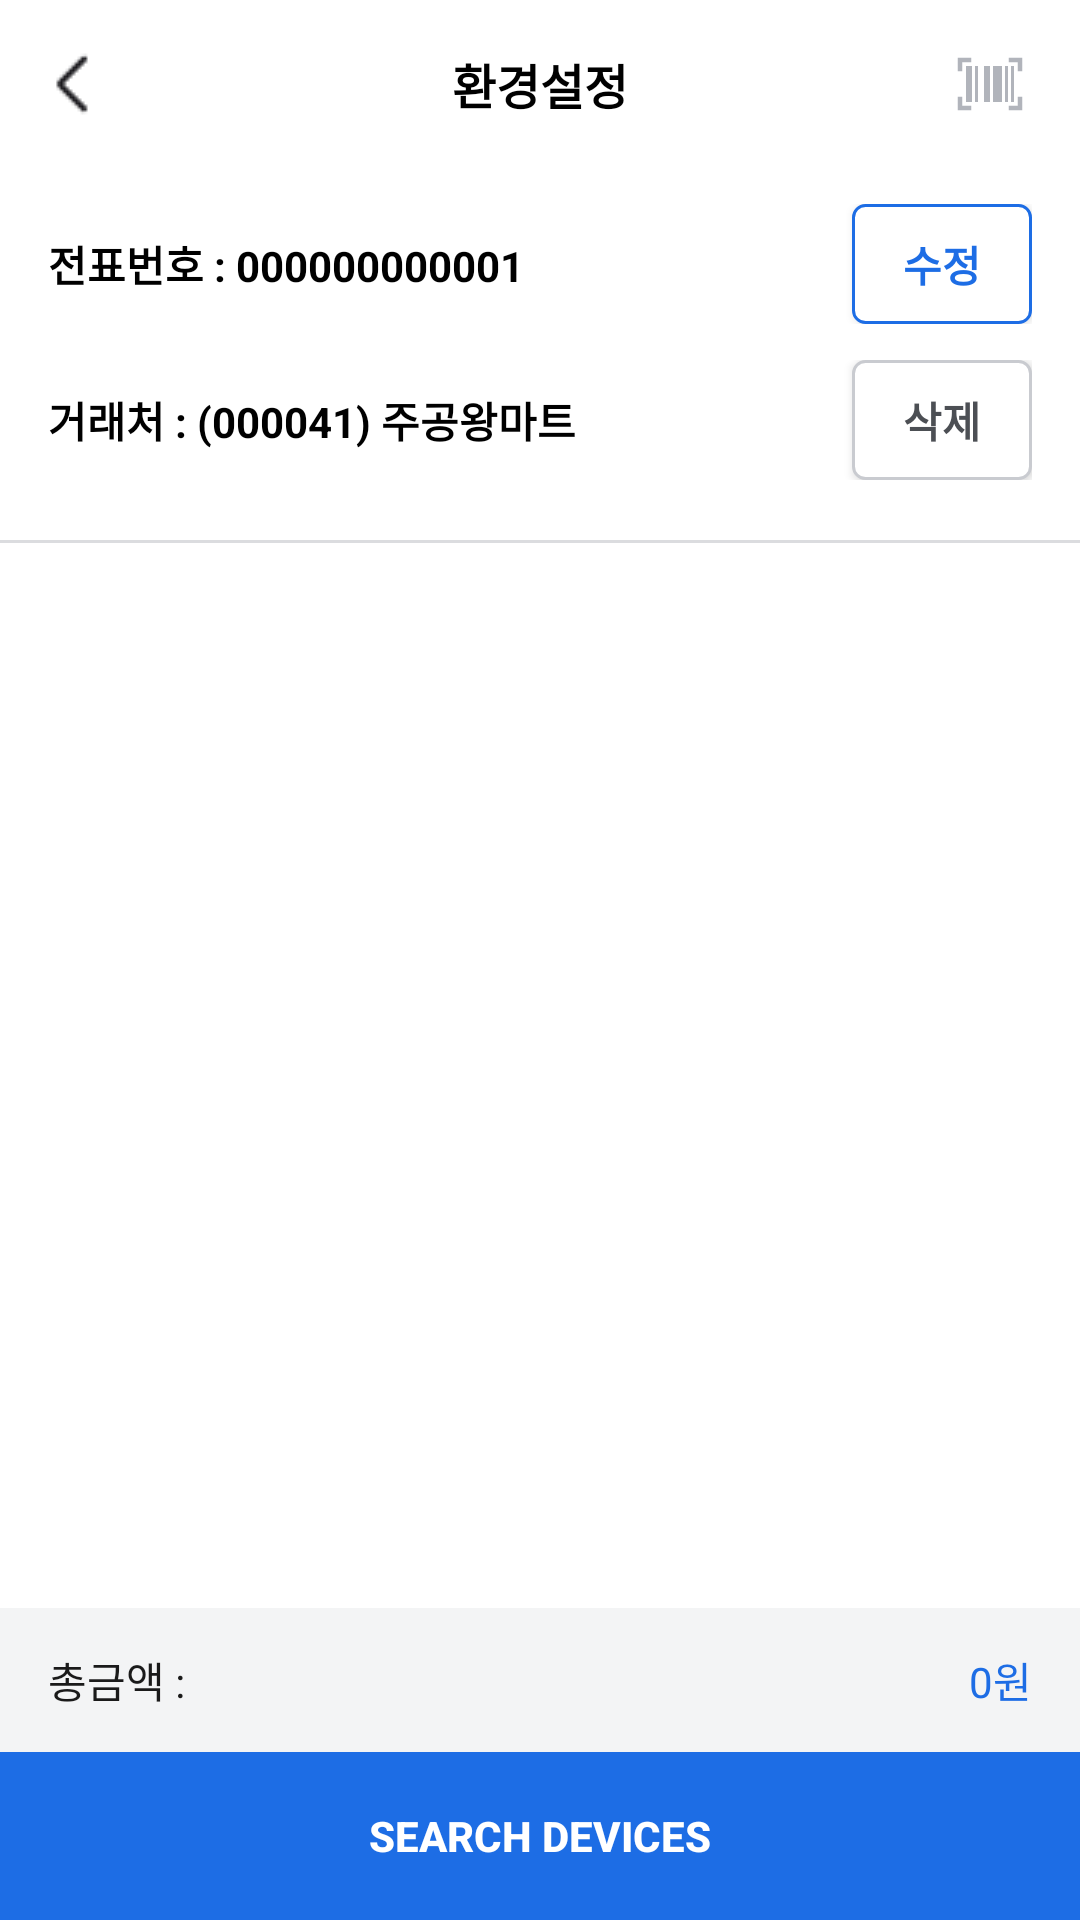

Icon click points for this 1080*1920 phone screenshot, format [x,y]:
arrow back: [72,84]
scan: [990,84]
